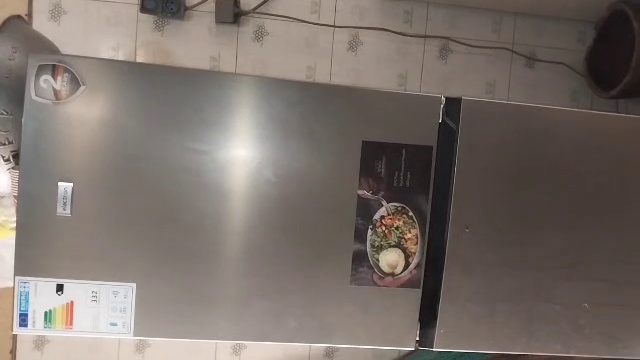refrigerator: (9, 44, 640, 360)
